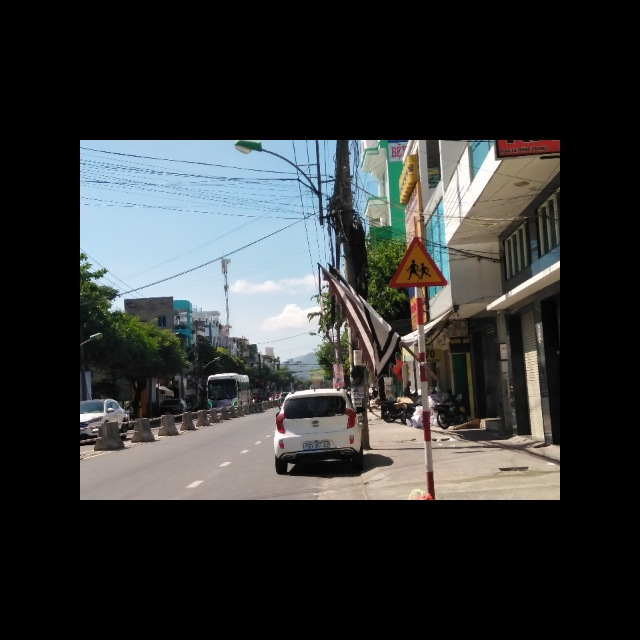Trẻ em ngang qua: (383, 235, 448, 287)
